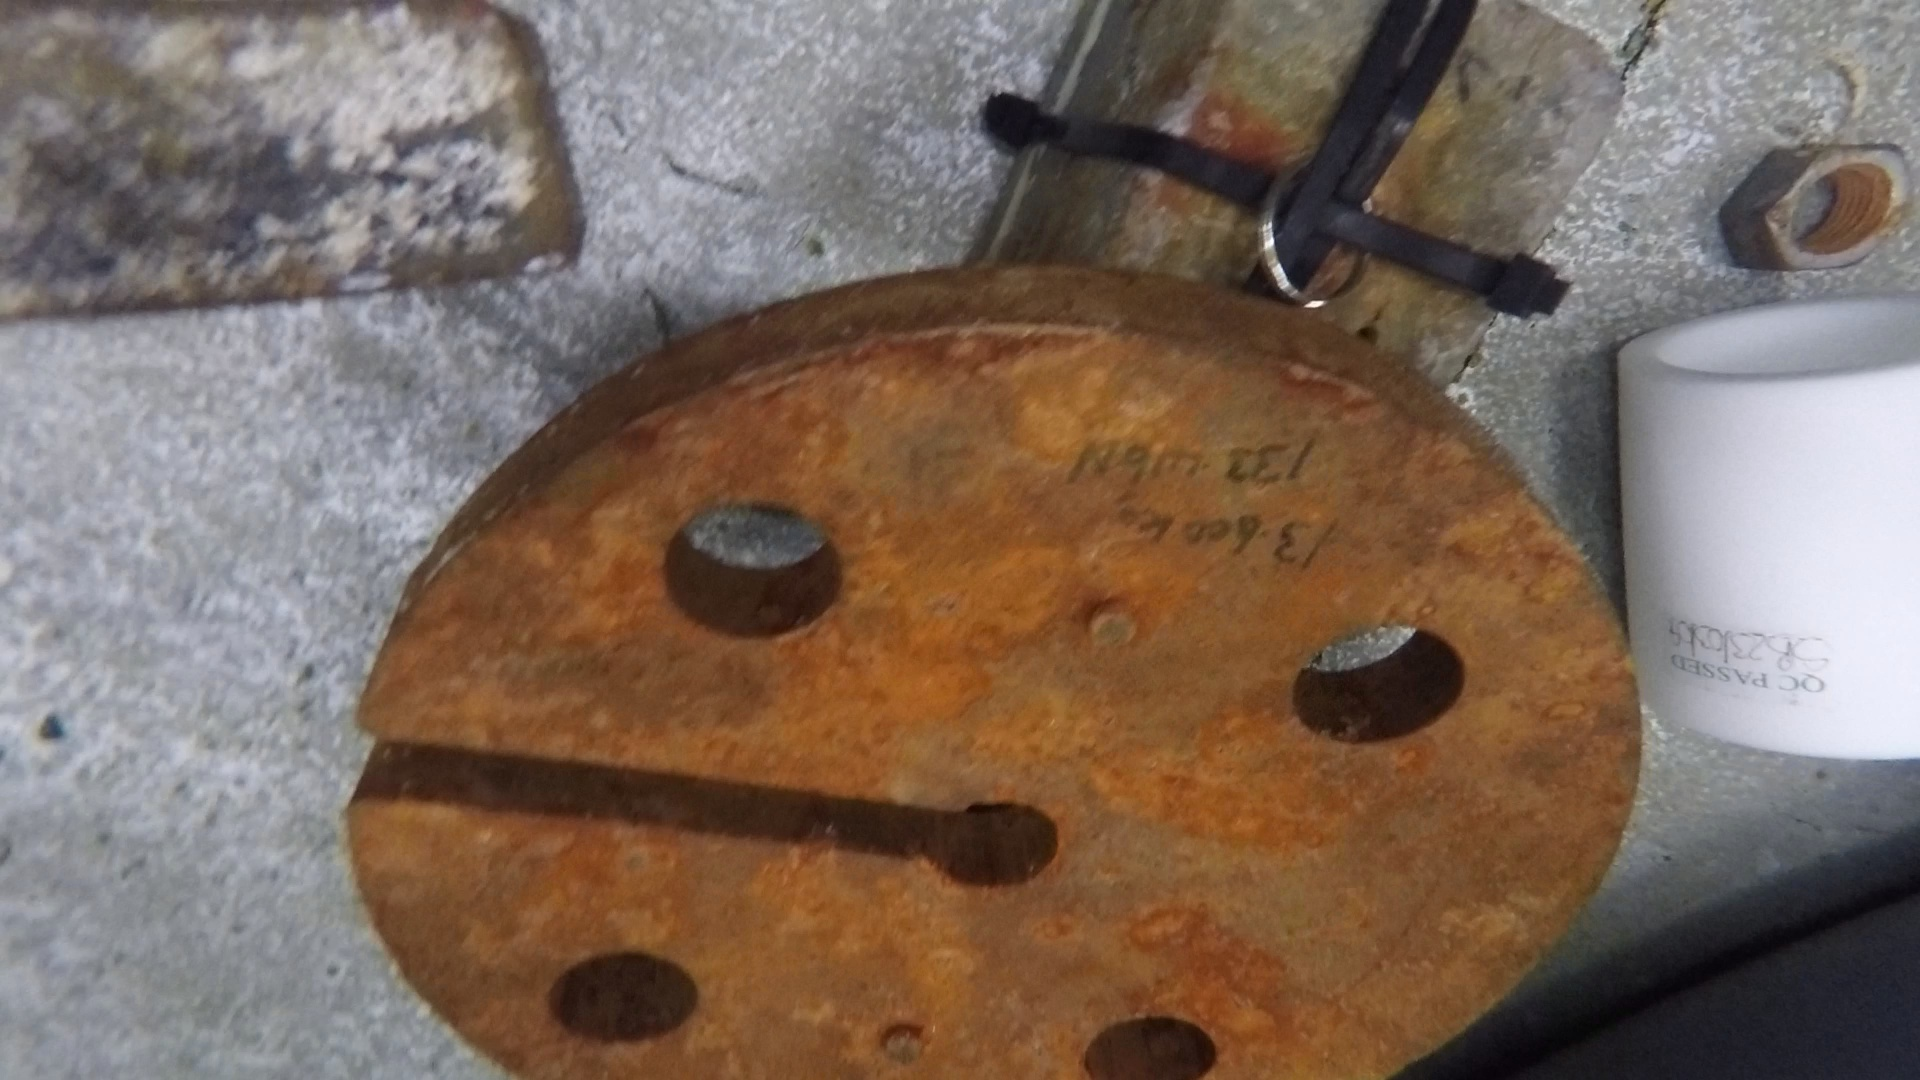flange: (342, 266, 1648, 1075)
led_block: (965, 1, 1627, 384), (1, 5, 585, 313)
nut: (1720, 142, 1916, 274)
pipe: (1618, 290, 1920, 764)
